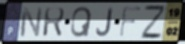F: (118, 5, 144, 39)
J: (95, 6, 114, 38)
N: (18, 6, 44, 39)
Q: (69, 5, 94, 39)
R: (41, 6, 66, 38)
Z: (140, 4, 166, 41)
